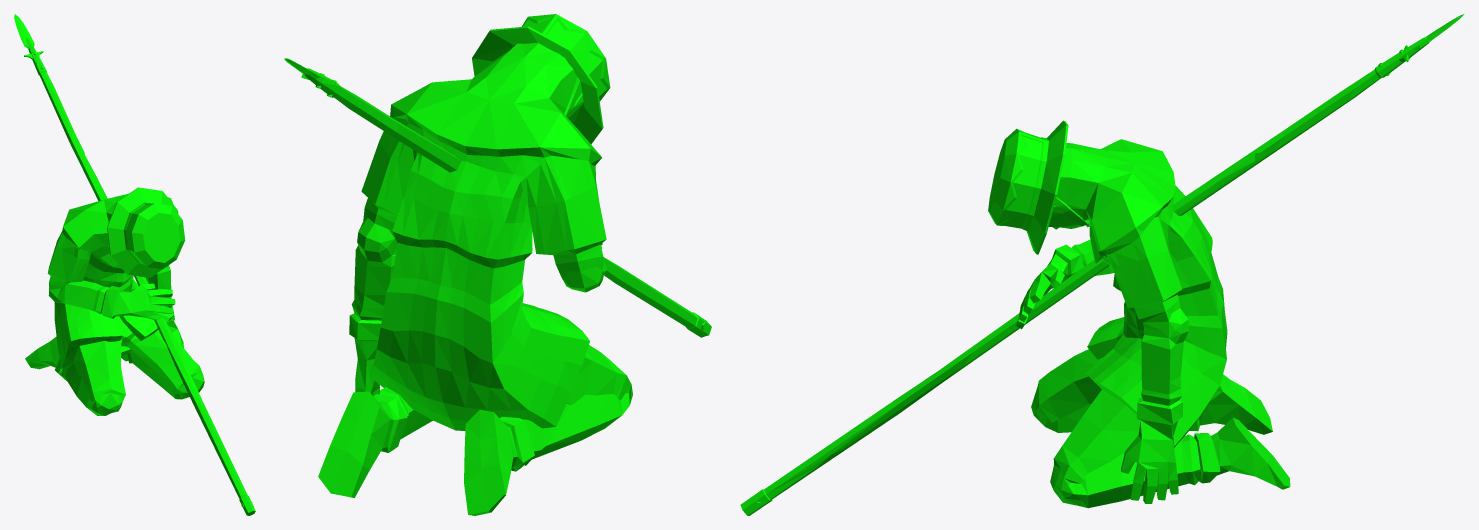
Rendered from SM_Corpse_Human_Soldier_B_Fantasy.fbx.
3 renders of one model, left to right at view 1: azimuth 30°, elevation 25°; view 2: azimuth 150°, elevation 25°; view 3: azimuth 270°, elevation 25°, orthographic. The views are drawn at different scales.
Parts seen in each view (by area): view 1: corpse-human-soldier-b-body-fantasy, corpse-human-soldier-b-weapon-fantasy; view 2: corpse-human-soldier-b-body-fantasy, corpse-human-soldier-b-weapon-fantasy; view 3: corpse-human-soldier-b-body-fantasy, corpse-human-soldier-b-weapon-fantasy.
Part boxes in pixels (x1,y1,x2,y2): corpse-human-soldier-b-body-fantasy: (25,187,204,415); corpse-human-soldier-b-weapon-fantasy: (14,14,255,515); corpse-human-soldier-b-body-fantasy: (318,14,632,515); corpse-human-soldier-b-weapon-fantasy: (284,58,711,337); corpse-human-soldier-b-body-fantasy: (988,120,1290,508); corpse-human-soldier-b-weapon-fantasy: (740,14,1464,515).
Size of the model in its own units: 0.6301 by 1.46 by 1.91.
